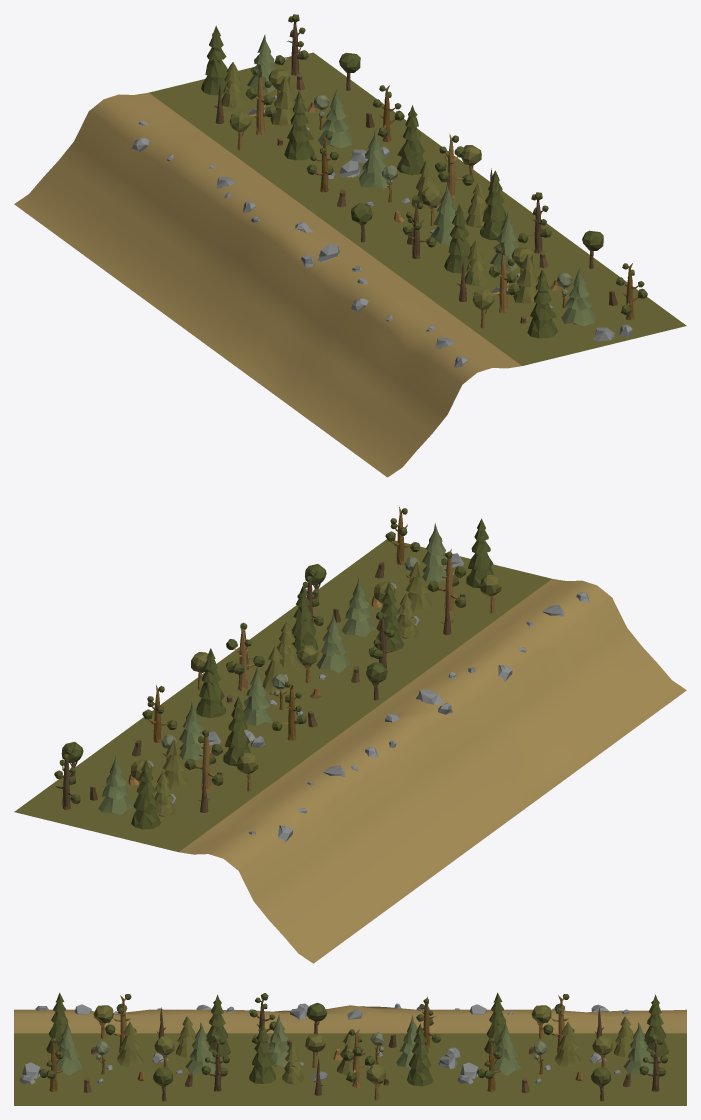
Rendered from canoeTerrainPost.gltf.
The picture shows the model from 3 angles, top to bottom: view 1: azimuth 30°, elevation 25°; view 2: azimuth 150°, elevation 25°; view 3: azimuth 270°, elevation 25°; orthographic projection. The views are drawn at different scales.
Visible parts, largest first — view 1: canoeTerrainPost; view 2: canoeTerrainPost; view 3: canoeTerrainPost.
Boxes of the visible parts, x1=… form: canoeTerrainPost: x1=14, y1=14, x2=686, y2=477; canoeTerrainPost: x1=14, y1=507, x2=686, y2=963; canoeTerrainPost: x1=14, y1=992, x2=686, y2=1105.
Size of the model in its own units: 78.74 by 36.83 by 170.
